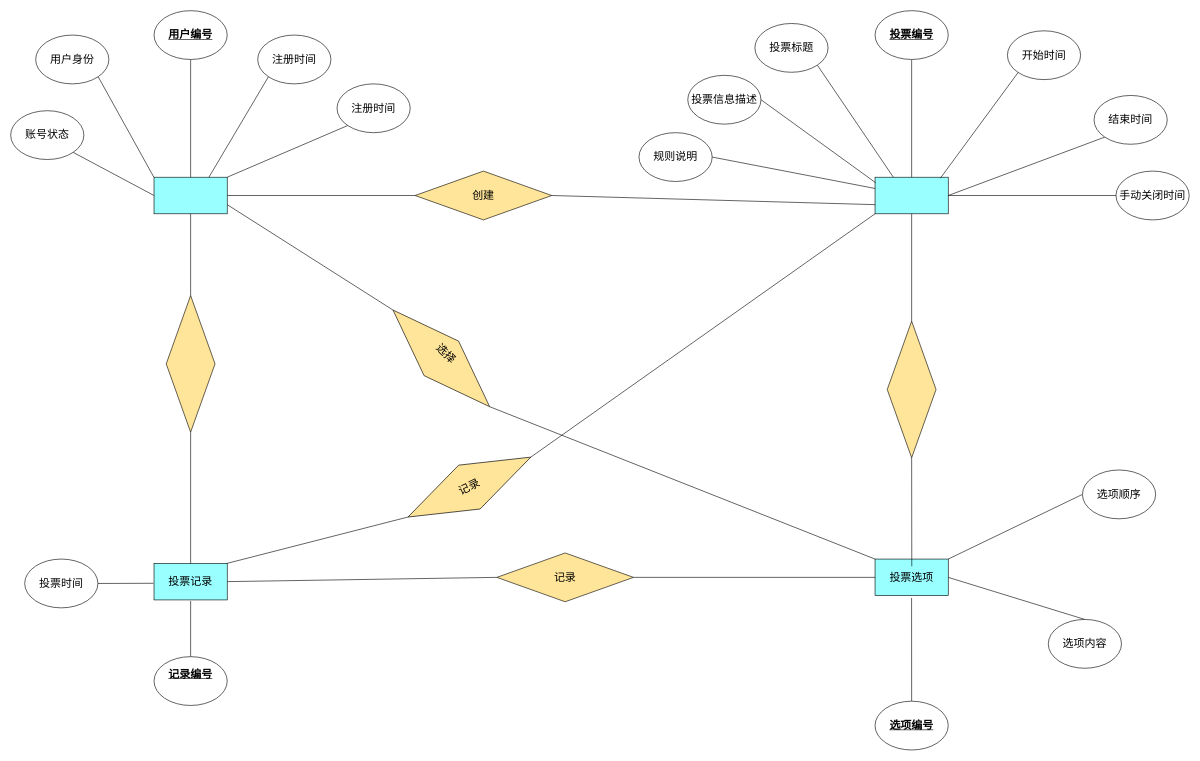
This 1200x761 diagram has some shape labels left out. Each missing label, with the centre of its shape:
"包含" belongs at (911,389).
"投票" belongs at (911,195).
"提交" belongs at (190,363).
"用户" belongs at (190,195).
